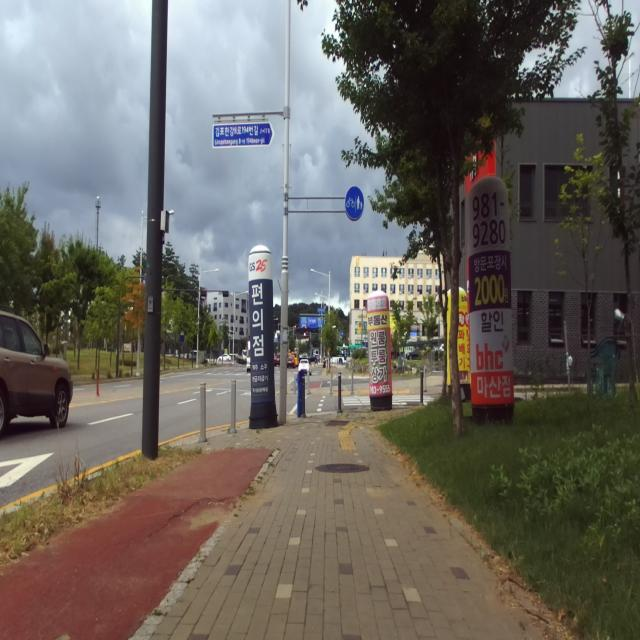횡단보도: (342, 394, 435, 406)
